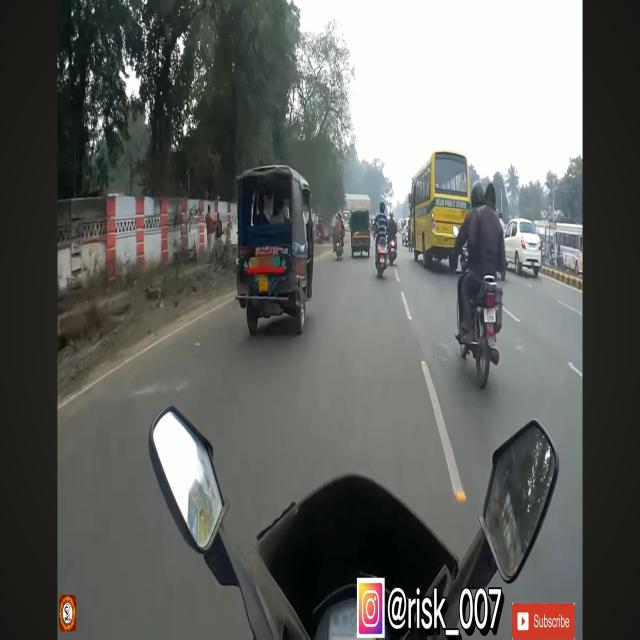bike: (462, 184, 509, 382), (374, 196, 392, 281)
no_helmet: (486, 177, 500, 204)
